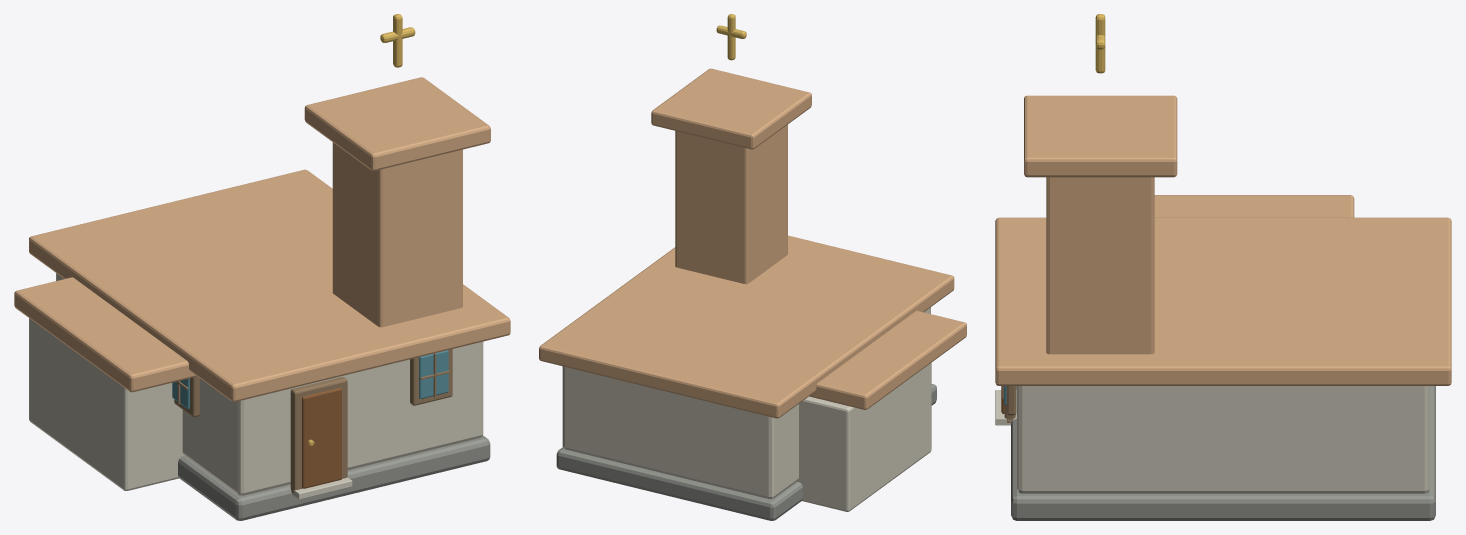
File: arid-chapel-1.glb
3 views of the same model, side by side, from view 1: azimuth 30°, elevation 25°; view 2: azimuth 150°, elevation 25°; view 3: azimuth 270°, elevation 25° (orthographic). The views are drawn at different scales.
Parts seen in each view (by area): view 1: Adobe cream, Cut limestone, Adobe warm_stone, Foundation stone, Palm beams, Door oak, Blue glass, Warm brass; view 2: Adobe cream, Cut limestone, Adobe warm_stone, Foundation stone, Warm brass; view 3: Adobe cream, Cut limestone, Adobe warm_stone, Foundation stone, Warm brass.
Boxes of the visible parts, x1,y1,x2,y2 form: Adobe cream: (14,77,510,401); Cut limestone: (29,273,483,499); Adobe warm_stone: (332,142,462,327); Foundation stone: (178,435,490,520); Palm beams: (174,349,452,493); Door oak: (302,387,341,488); Blue glass: (172,350,448,409); Warm brass: (307,14,415,446); Adobe cream: (539,68,966,418); Cut limestone: (562,307,931,511); Adobe warm_stone: (675,124,787,284); Foundation stone: (556,384,936,520); Warm brass: (716,14,746,60); Adobe cream: (995,95,1451,385); Cut limestone: (995,386,1429,493); Adobe warm_stone: (1046,177,1154,354); Foundation stone: (1011,386,1435,520); Warm brass: (1095,14,1105,73).
Bounding box in the file's own units: 4.4 × 5.38 × 4.64.
